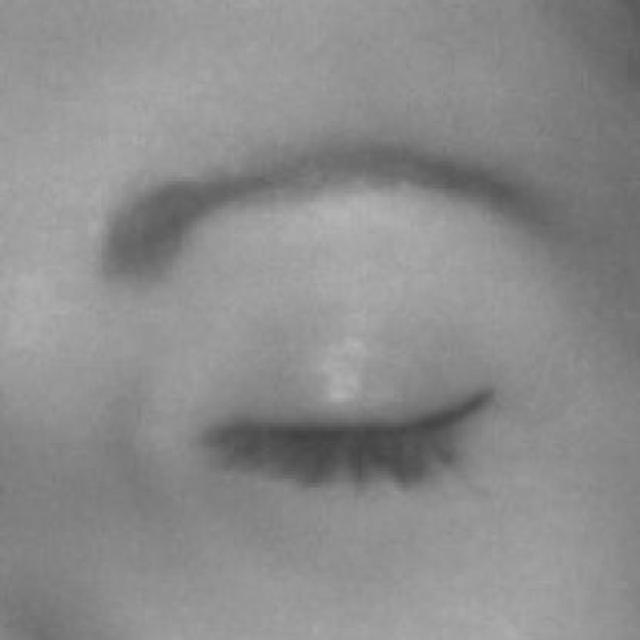drowsy: (188, 264, 500, 605)
